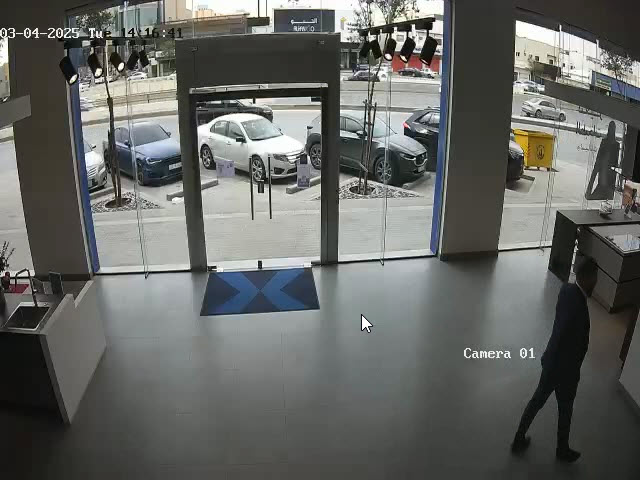employee: (510, 253, 599, 463)
